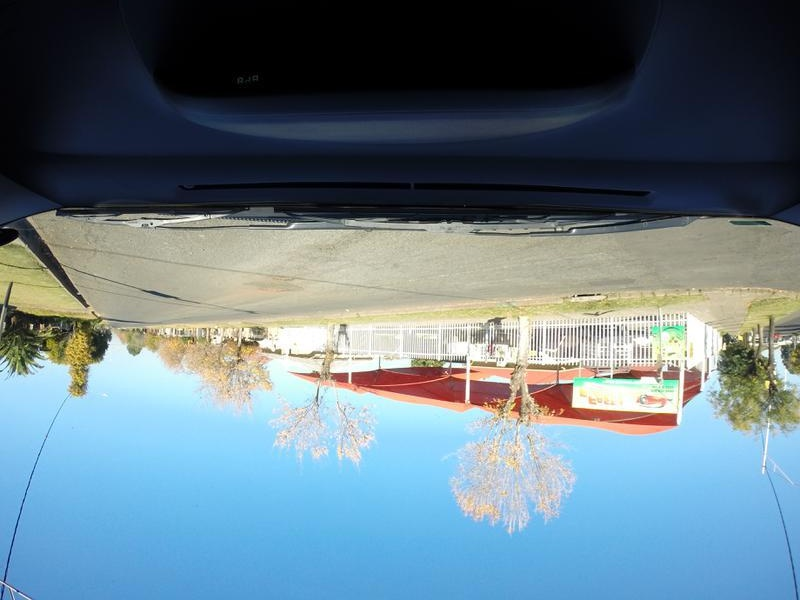pothole: (272, 271, 298, 278)
